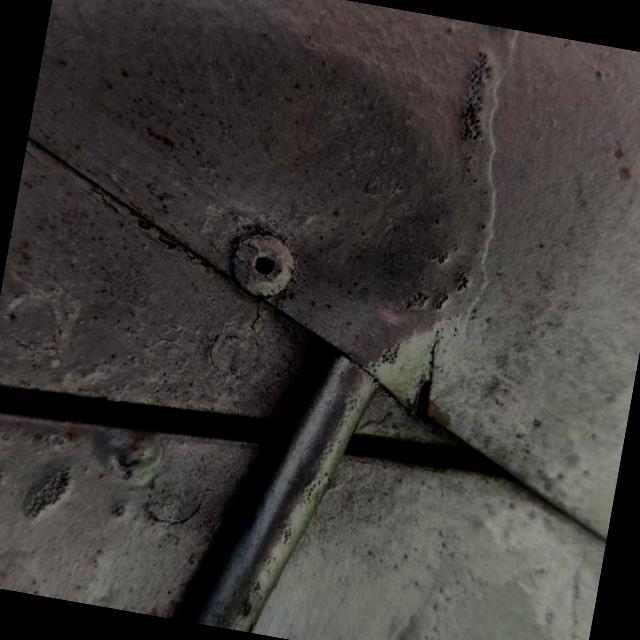crack: (316, 168, 438, 261)
